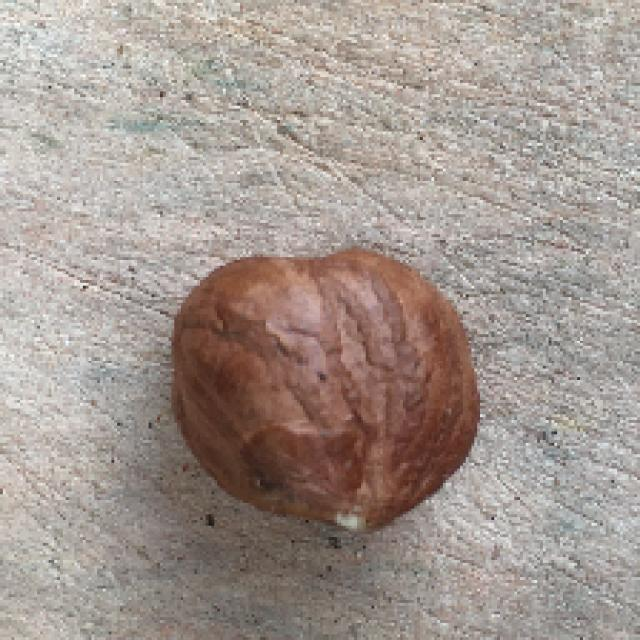hazelnut: (169, 240, 482, 553)
